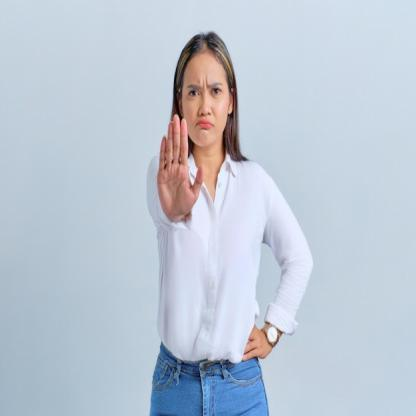stop: (154, 110, 206, 230)
